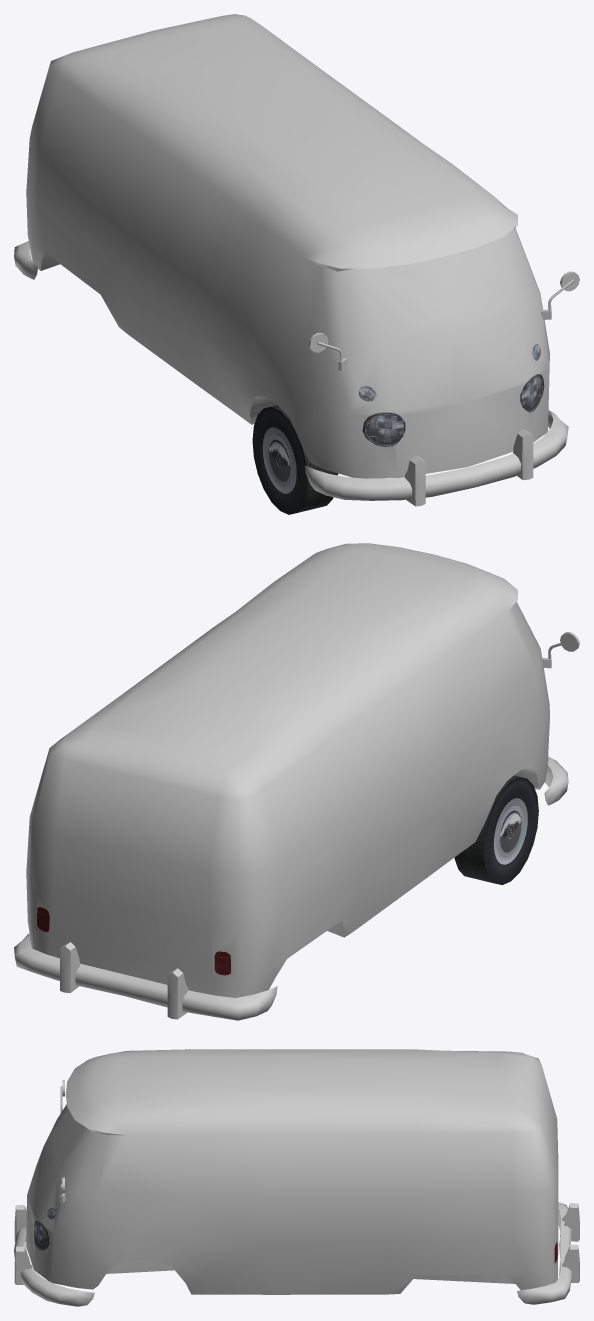
File: dabba.FBX
3 renders of one model, top to bottom at view 1: azimuth 30°, elevation 25°; view 2: azimuth 150°, elevation 25°; view 3: azimuth 270°, elevation 25°, orthographic. The views are drawn at different scales.
Visible parts, largest first — view 1: dabba, wheel, front_light; view 2: dabba, wheel, back_light; view 3: dabba, front_light.
Boxes of the visible parts, bbox=[...] form: dabba: bbox=[14, 14, 579, 506]; wheel: bbox=[252, 405, 338, 514]; front_light: bbox=[358, 344, 544, 446]; dabba: bbox=[14, 543, 579, 1020]; wheel: bbox=[454, 775, 538, 884]; back_light: bbox=[37, 907, 230, 975]; dabba: bbox=[14, 1049, 579, 1306]; front_light: bbox=[34, 1208, 55, 1250].
Bounding box in the file's own units: 208 × 213 × 478.
